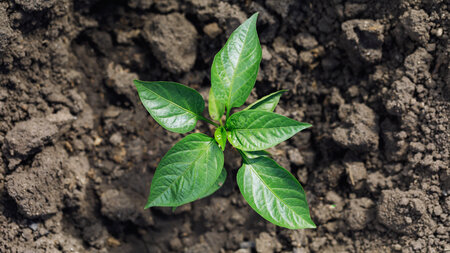potato_plant: (128, 11, 318, 231)
